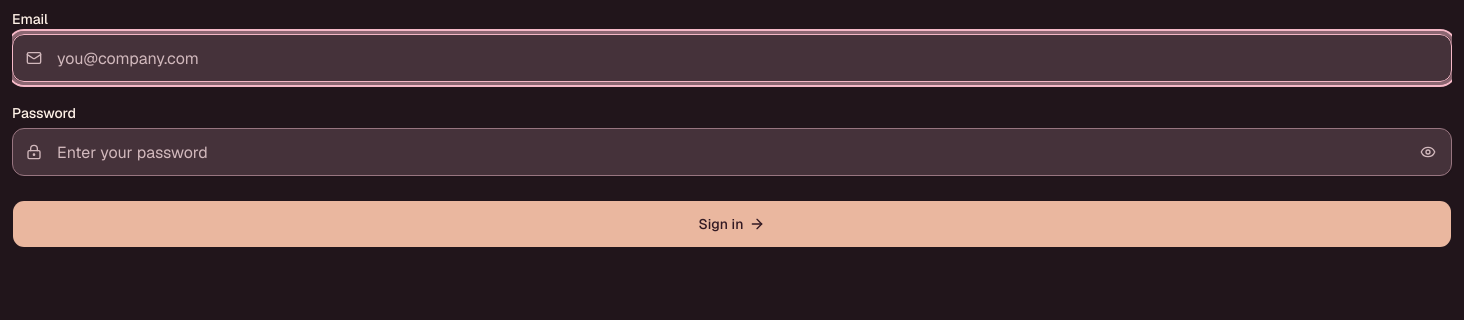
it: LoginForm › blocks submission and shows field messages when the form is empty
Click the button "Sign in" at (732, 224), box [12, 200, 1452, 248]
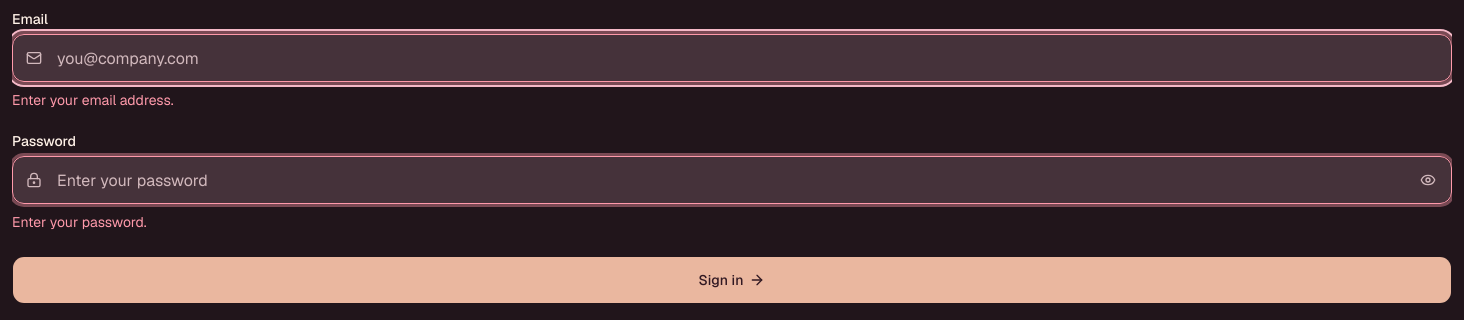
Expected: the text "Enter your email address." is shown, [12, 91, 174, 109]
Expected: the text "Enter your password." is shown, [12, 213, 147, 231]
